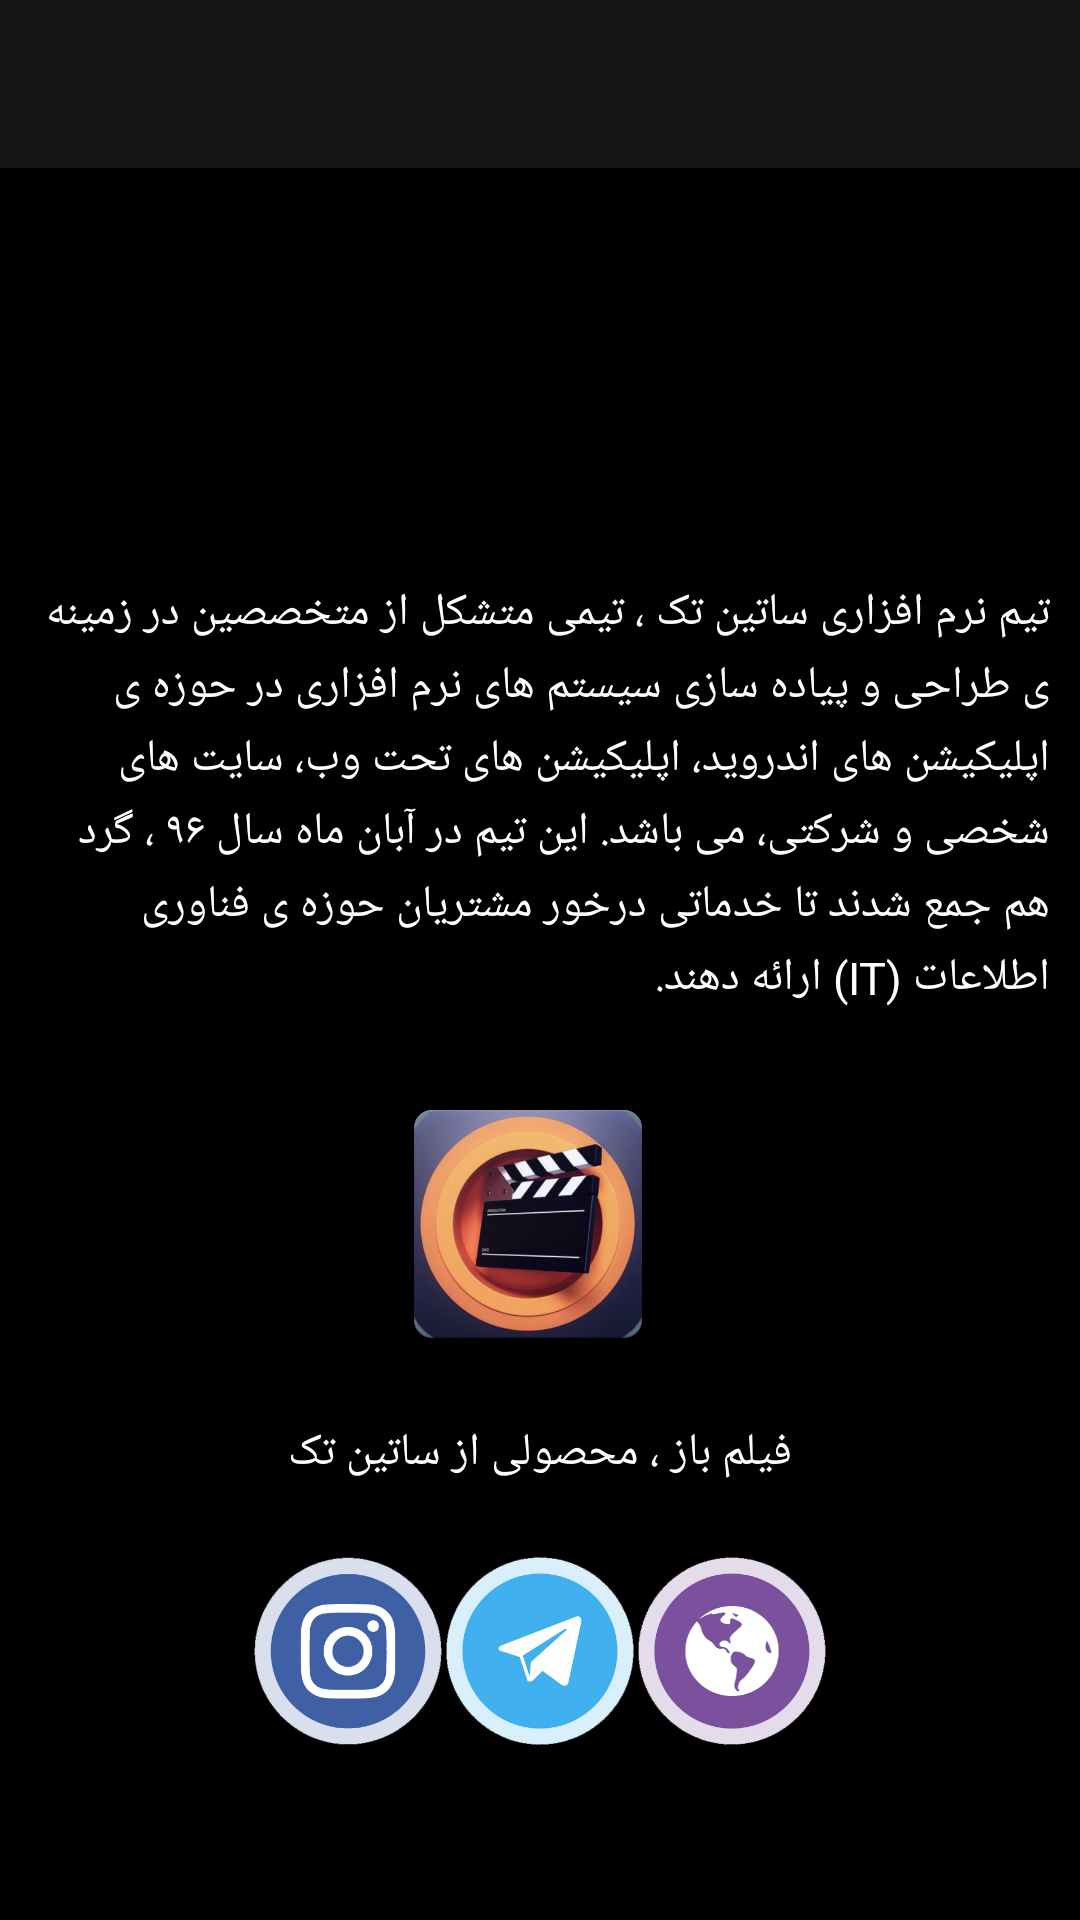

Screen size 1080 × 1920. Icon name, then its box in pixels as region(x1, y1, x2, y2):
website: region(638, 1557, 826, 1745)
